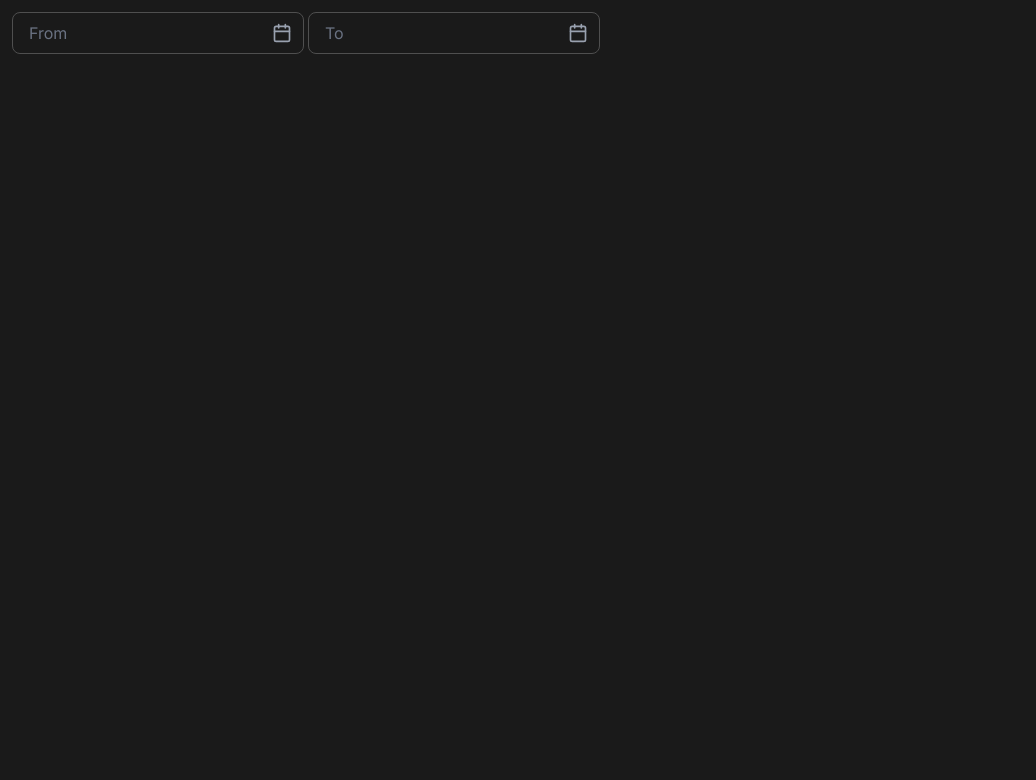
DateRangePicker Component › Calendar Interaction › should handle clicking between from and to calendars
Open from calendar
Click the field with placeholder "From" at (158, 33), box [12,12,304,54]
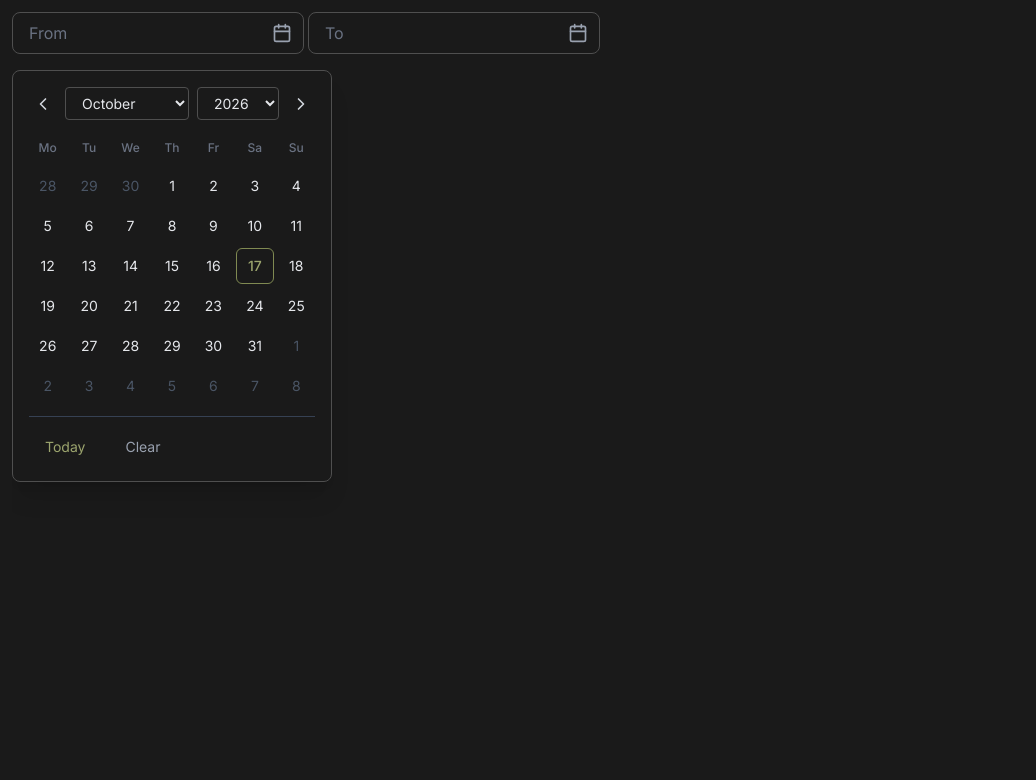
Now the text "Mo" is shown, box [39,140,57,155]
Click outside to close
Press the mouse on the element that starts with "Today" at (524, 396), box [12,12,1035,779]
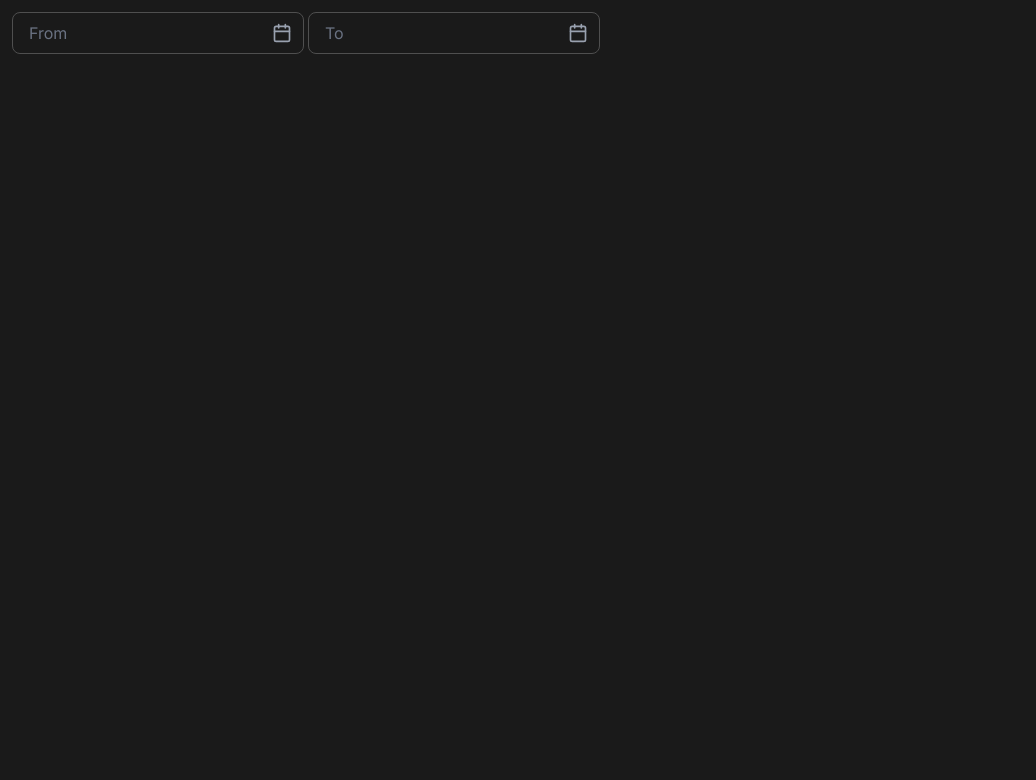
Open to calendar
Click the field with placeholder "To" at (454, 33), box [308,12,600,54]
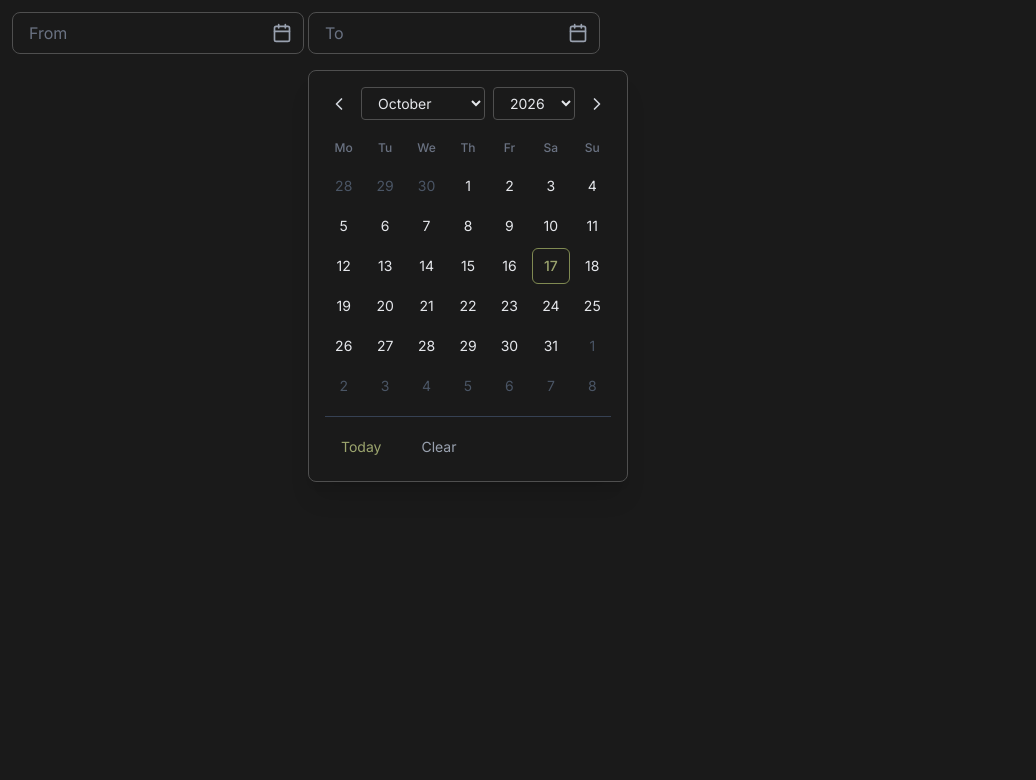
Now the text "Mo" is shown, box [335,140,353,155]
